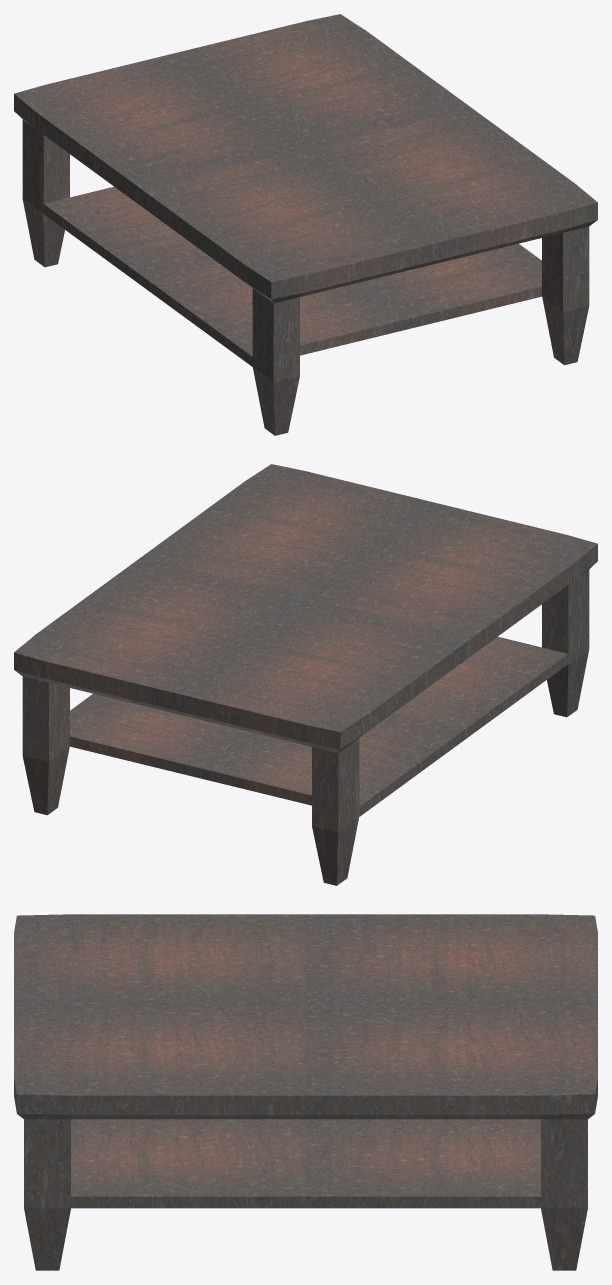
Rendered from desk.fbx.
3 views of the same model, one above another, from view 1: azimuth 30°, elevation 25°; view 2: azimuth 150°, elevation 25°; view 3: azimuth 270°, elevation 25° (orthographic). The views are drawn at different scales.
Visible parts, largest first — view 1: Desk low; view 2: Desk low; view 3: Desk low.
Boxes of the visible parts, x1,y1,x2,y2 form: Desk low: (14, 14, 597, 435); Desk low: (14, 464, 597, 885); Desk low: (14, 914, 597, 1270).
Bounding box in the file's own units: 152 × 71.52 × 207.
Materials: 1 (1 with a texture image).
